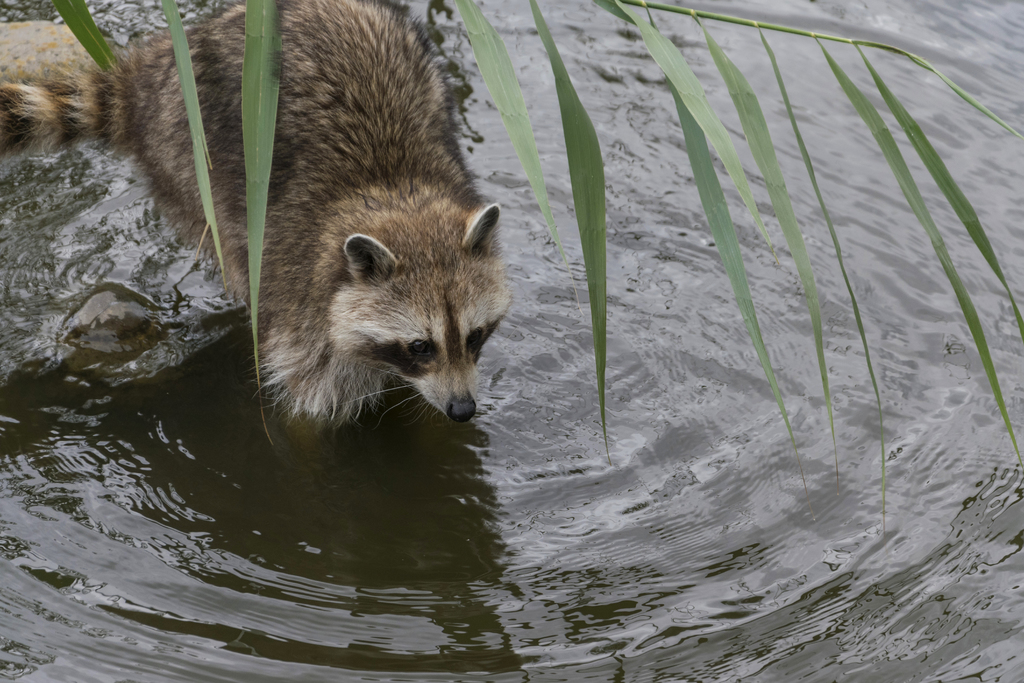raccoon: (4, 5, 498, 440)
